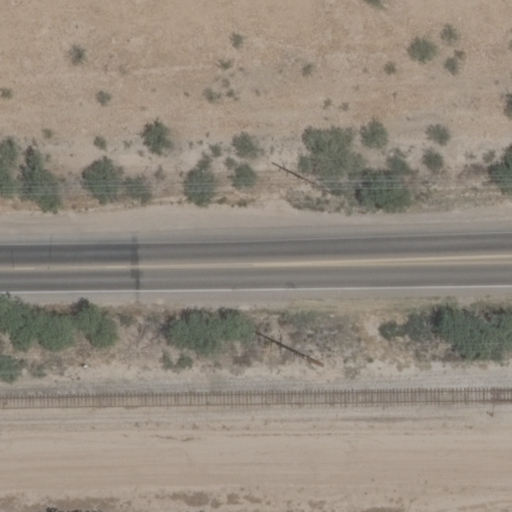DT: (259, 334, 322, 366), (272, 166, 322, 188)
